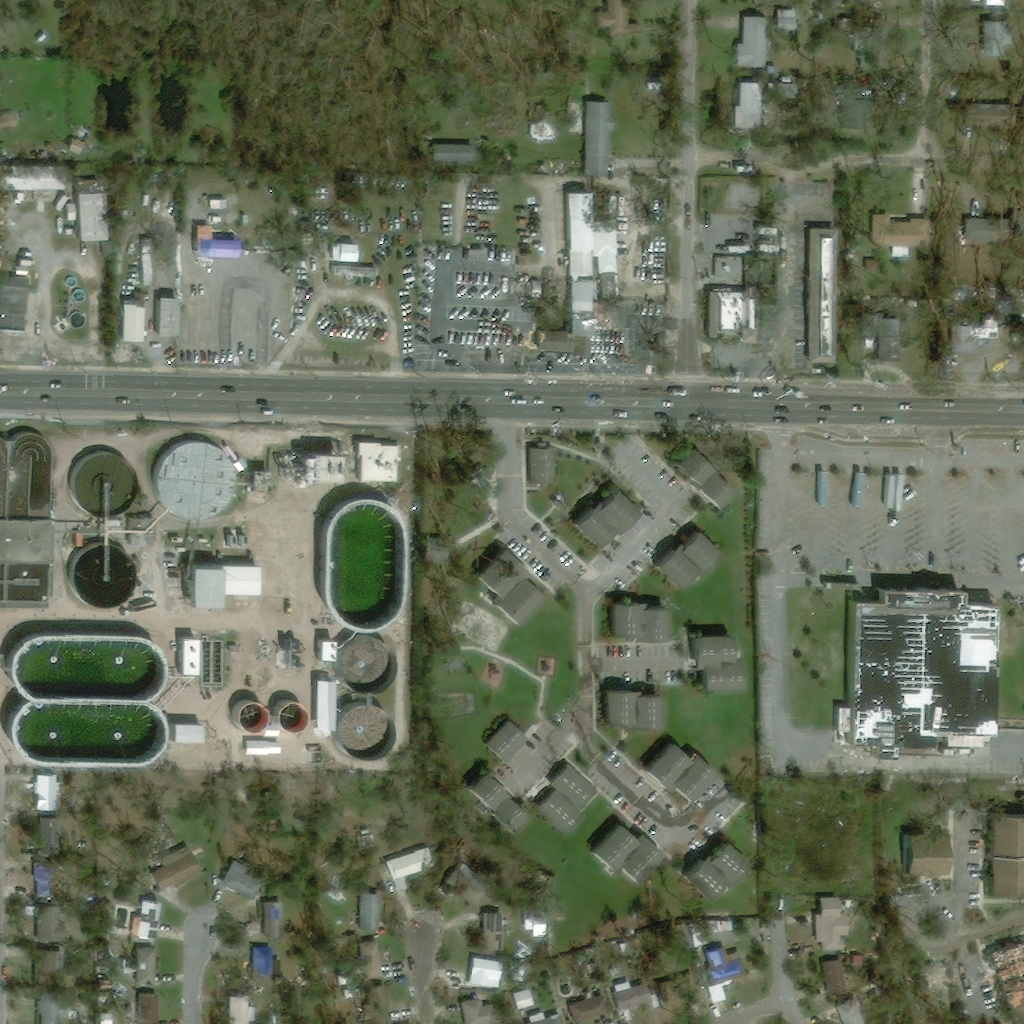major_damage: (989, 940, 1023, 994), (31, 861, 57, 891)
minor_damage: (833, 584, 1000, 759), (807, 227, 837, 363), (538, 283, 592, 354), (704, 947, 746, 1004), (953, 314, 1002, 356), (844, 17, 882, 68), (383, 846, 434, 881), (0, 168, 65, 192), (730, 83, 764, 126), (196, 226, 240, 258), (978, 20, 1016, 55), (122, 949, 154, 984), (256, 900, 284, 940), (481, 912, 511, 948), (365, 984, 390, 1023), (872, 318, 894, 362), (223, 995, 256, 1023), (971, 103, 1014, 124), (821, 956, 844, 993), (32, 950, 59, 981), (38, 823, 60, 852), (331, 265, 379, 278), (138, 994, 158, 1023), (524, 913, 547, 937), (689, 920, 708, 947), (705, 920, 731, 936), (338, 242, 359, 261), (24, 906, 38, 916), (985, 0, 1005, 6)
no_damage: (0, 430, 50, 606), (151, 439, 237, 521), (480, 547, 548, 627), (648, 740, 720, 802), (566, 189, 617, 276), (574, 484, 644, 546), (538, 763, 598, 833), (592, 823, 661, 881), (659, 531, 725, 591), (678, 445, 740, 506), (468, 770, 530, 830), (692, 840, 752, 895), (192, 563, 261, 607), (608, 600, 668, 647), (603, 687, 663, 731), (695, 635, 742, 690), (437, 862, 491, 907), (874, 214, 929, 257), (706, 289, 753, 339), (151, 846, 202, 891), (584, 101, 614, 176), (734, 17, 774, 68), (901, 833, 950, 874), (354, 440, 401, 481), (76, 183, 108, 243), (486, 717, 529, 760), (611, 980, 653, 1022), (221, 859, 261, 901), (0, 274, 27, 331), (22, 991, 68, 1023), (989, 854, 1023, 897), (137, 899, 173, 939), (569, 990, 611, 1023), (990, 813, 1023, 855), (836, 87, 867, 127), (596, 0, 629, 36), (527, 443, 555, 485), (469, 957, 502, 992), (354, 940, 381, 981), (121, 298, 145, 343), (316, 677, 337, 728), (23, 775, 59, 804), (997, 985, 1023, 1023), (177, 637, 202, 675), (460, 997, 495, 1023), (818, 913, 840, 951), (251, 946, 273, 984), (359, 892, 381, 928), (158, 296, 178, 334), (169, 721, 203, 742), (509, 273, 533, 301), (315, 636, 339, 664), (774, 10, 804, 32), (440, 142, 476, 158), (512, 987, 537, 1008), (836, 1004, 862, 1023), (240, 742, 271, 757), (140, 245, 151, 286), (445, 646, 461, 668), (130, 519, 145, 542), (324, 878, 341, 895), (527, 1011, 549, 1023), (526, 106, 543, 120), (506, 963, 524, 976), (551, 497, 566, 511), (359, 835, 372, 848), (263, 723, 278, 734), (209, 202, 226, 211), (207, 215, 224, 224), (67, 204, 75, 221), (528, 975, 537, 984), (595, 442, 602, 448), (539, 484, 546, 488)
